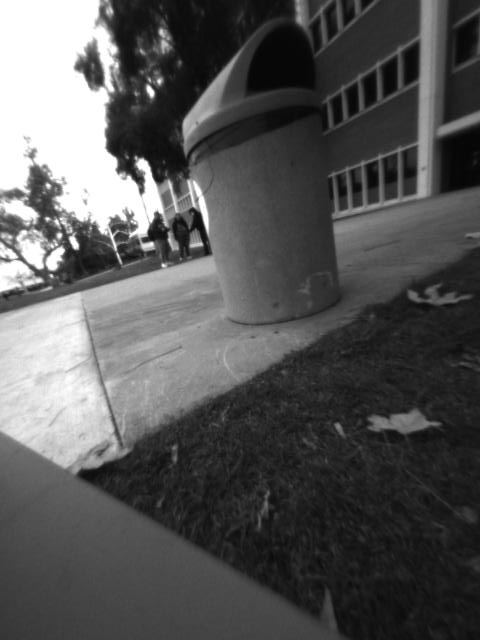trashcan: (180, 15, 349, 327)
